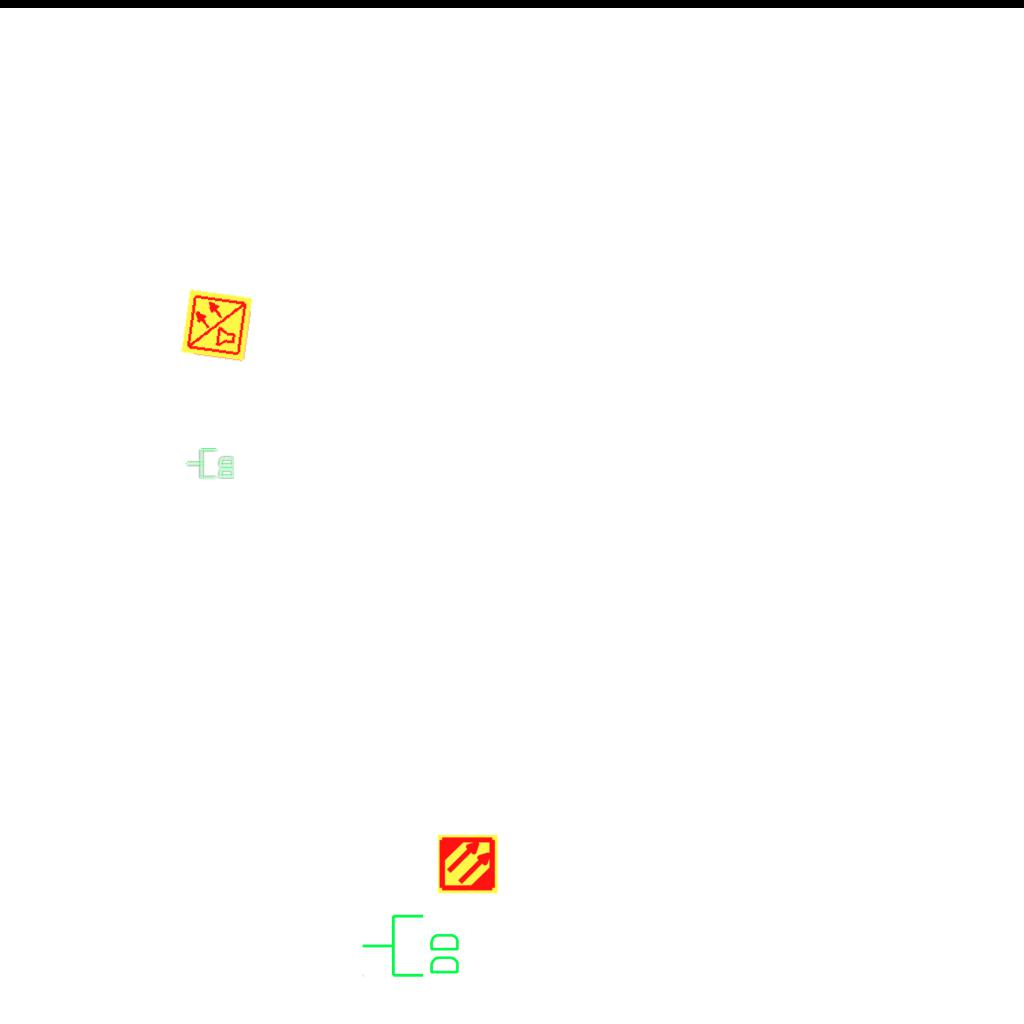ASR_Ansaugrauchmelder: (437, 833, 499, 895)
Datenanschluss_zweifach: (360, 912, 463, 981), (185, 447, 236, 481)
OKW_Multisensormelder_(Kombination_optischer_Rauch-Kahlenmonoxid_Waerme-Melder): (179, 287, 255, 363)
